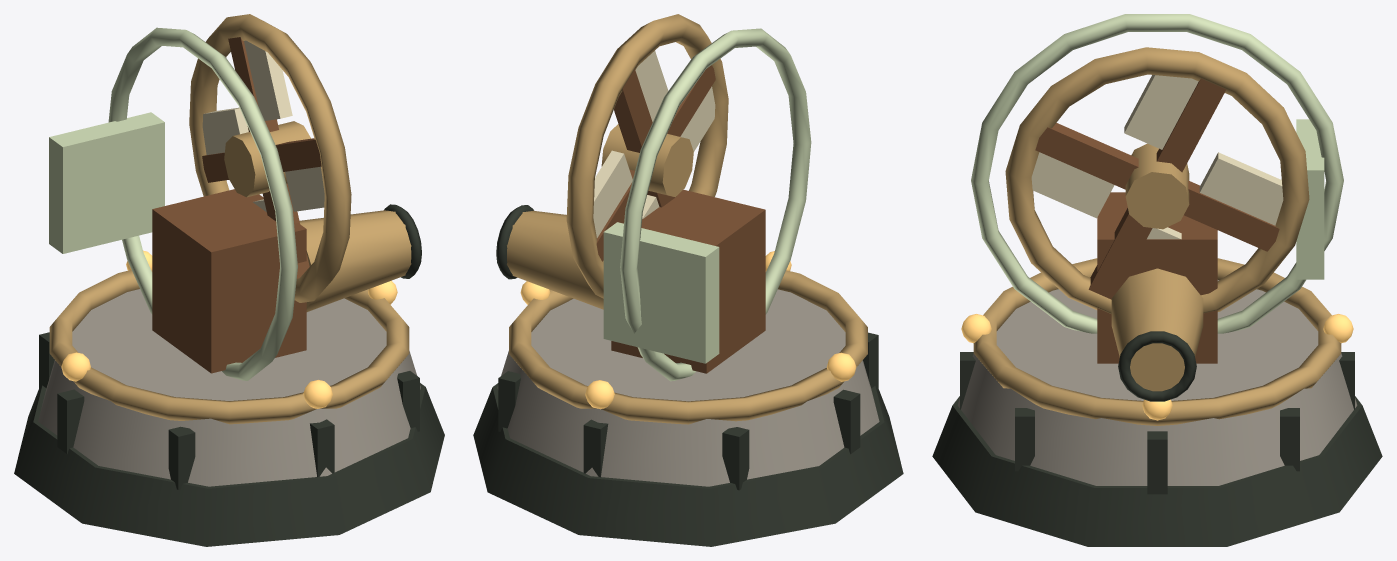
The model's file is tower_wind_windSwitch_ultimate.glb.
The picture shows the model from 3 angles, left to right: view 1: azimuth 30°, elevation 25°; view 2: azimuth 150°, elevation 25°; view 3: azimuth 270°, elevation 25°; orthographic projection. The views are drawn at different scales.
Parts seen in each view (by area): view 1: stone_1, foot_0, mill_15, deflector_28, guide_ring_16, rim_2, redirect_29, air_nozzle_26, hub_17, sail_21, sail_19, sail_23 (+12 smaller); view 2: stone_1, foot_0, redirect_29, deflector_28, guide_ring_16, rim_2, mill_15, air_nozzle_26, hub_17, sail_19, spar_20, mortar_8 (+11 smaller); view 3: stone_1, foot_0, guide_ring_16, redirect_29, rim_2, air_nozzle_26, mill_15, hub_17, sail_19, deflector_28, spar_22, sail_21 (+12 smaller).
Boxes of the visible parts, x1,y1,x2,y2 form: stone_1: (38, 289, 420, 486); foot_0: (14, 383, 444, 546); mill_15: (152, 189, 306, 373); deflector_28: (49, 112, 164, 253); guide_ring_16: (189, 14, 351, 302); rim_2: (49, 270, 409, 424); redirect_29: (108, 27, 297, 380); air_nozzle_26: (299, 210, 411, 311); hub_17: (224, 121, 310, 197); sail_21: (244, 40, 292, 120); sail_19: (202, 107, 248, 154); sail_23: (285, 166, 324, 211); stone_1: (497, 289, 879, 486); foot_0: (473, 383, 903, 546); redirect_29: (620, 28, 811, 381); deflector_28: (603, 222, 719, 363); guide_ring_16: (566, 14, 728, 298); rim_2: (509, 270, 867, 424); mill_15: (611, 189, 765, 373); air_nozzle_26: (507, 210, 603, 309); hub_17: (601, 124, 693, 197); sail_19: (593, 150, 632, 237); spar_20: (614, 69, 652, 152); mortar_8: (722, 427, 749, 490); stone_1: (957, 280, 1357, 485); foot_0: (932, 396, 1382, 546); guide_ring_16: (1005, 47, 1309, 313); redirect_29: (971, 14, 1343, 333); rim_2: (973, 258, 1341, 425); air_nozzle_26: (1111, 268, 1203, 391); mill_15: (1097, 192, 1217, 363); hub_17: (1125, 143, 1189, 229); sail_19: (1199, 152, 1283, 225); deflector_28: (1296, 119, 1324, 279); spar_22: (1035, 123, 1138, 189); sail_21: (1124, 75, 1198, 149).
Bounding box in the file's own units: 0.5326 × 0.5895 × 0.56.
